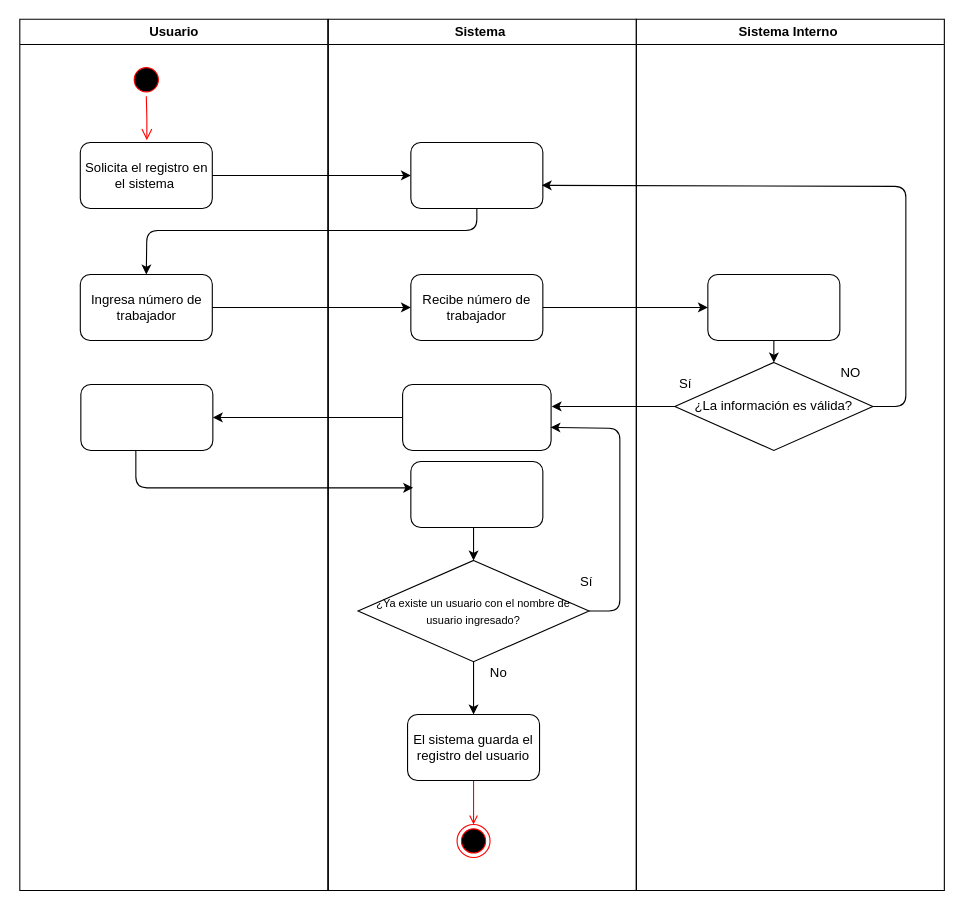
This 964x910 diagram has some shape labels left out. The centre of each missing label's shape, as x and y in pixels:
"Ingresa nombre y contraseña" belongs at [146,416].
"Presenta formulario para ingresar nombre de usuario y contraseña" belongs at [476,416].
"Solicita número de trabajador" belongs at [476,174].
"Verifica los datos ingresados" belongs at [476,493].
"Verifica número de trabajador" belongs at [773,306].
